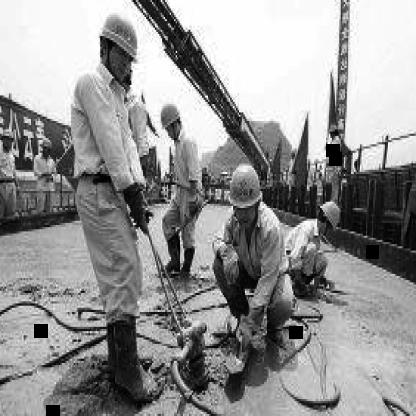helmet: (96, 0, 140, 89), (226, 159, 262, 229), (160, 96, 184, 142), (317, 198, 342, 235), (0, 123, 18, 155), (38, 134, 54, 162)
